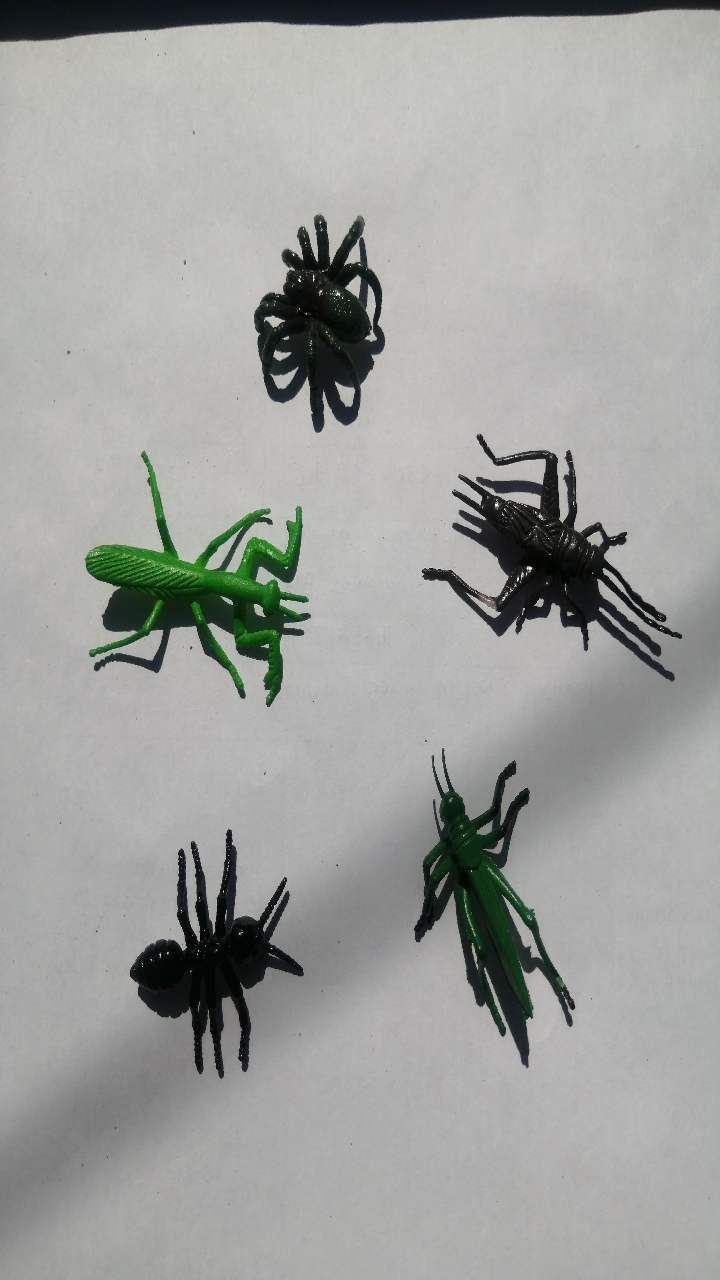intruso: (392, 385, 701, 703), (40, 422, 324, 728), (397, 725, 601, 1074), (80, 809, 331, 1089), (226, 177, 432, 414)
